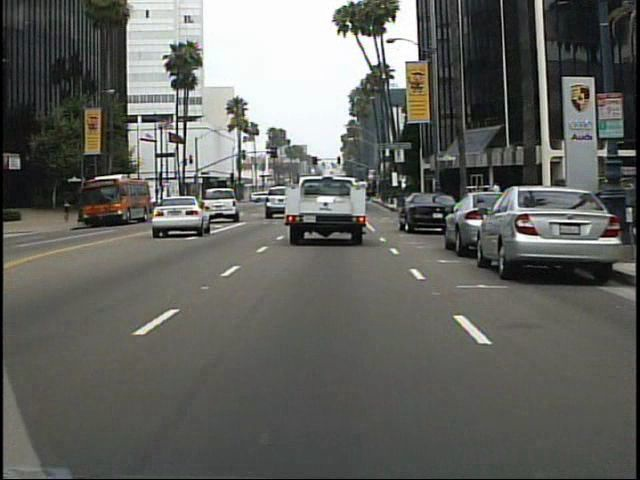person: (488, 179, 506, 221), (61, 192, 76, 226)
